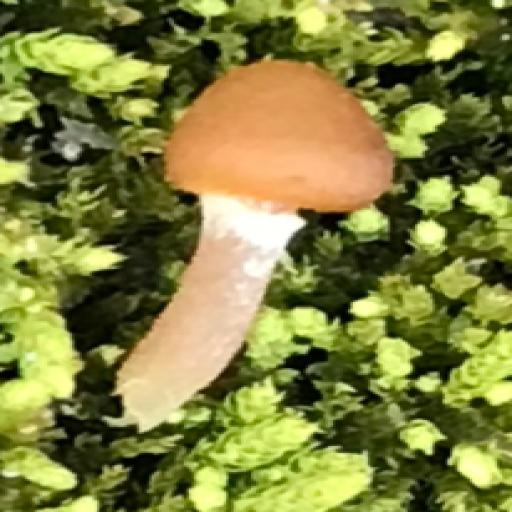mushroom: (142, 48, 398, 381)
